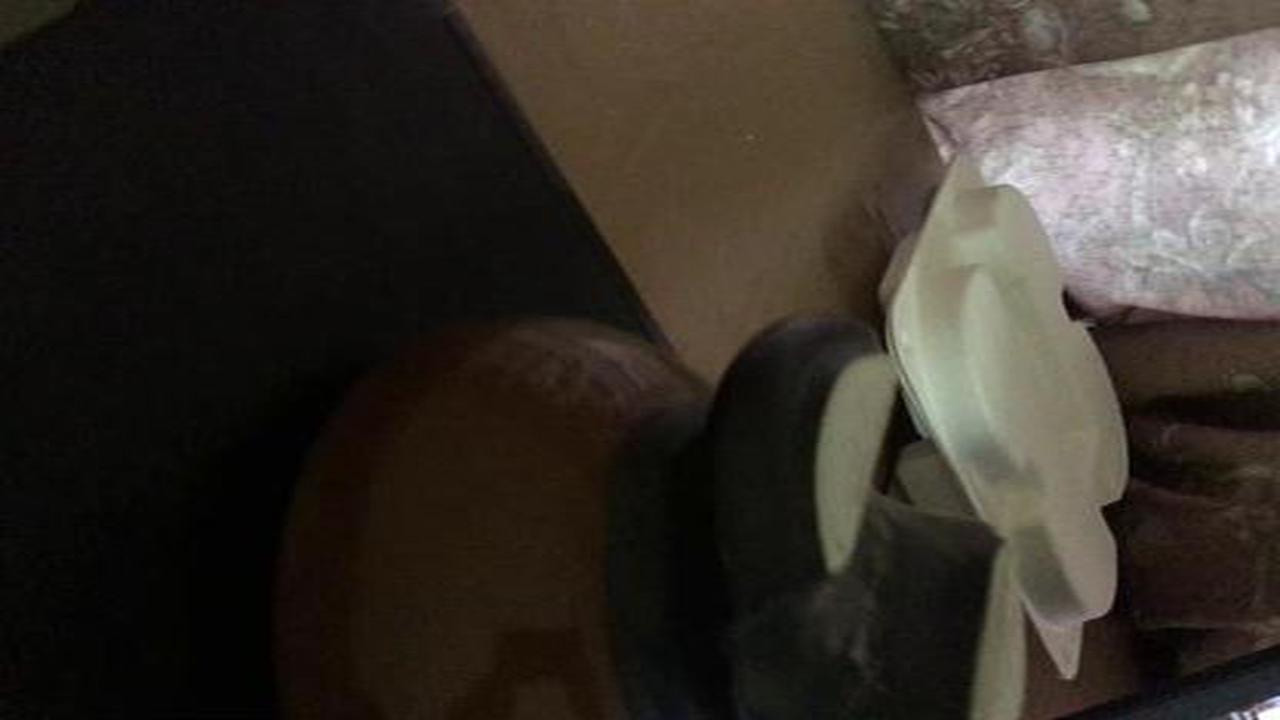insulator_pin: (259, 265, 1034, 712)
